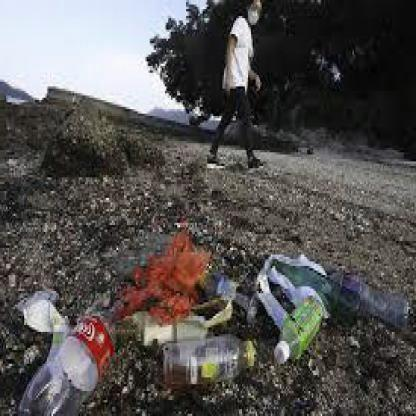Plastic: (15, 306, 116, 415), (160, 333, 258, 393), (318, 269, 414, 329), (273, 295, 327, 367)
